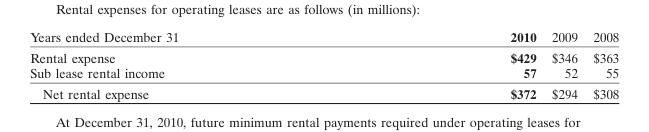table: (29, 28, 618, 101)
table column: (29, 28, 343, 101), (343, 28, 543, 101), (543, 28, 584, 101), (584, 28, 618, 101)
table column header: (29, 28, 618, 46)
table row: (29, 82, 618, 101), (29, 28, 618, 46), (29, 46, 618, 64), (29, 64, 618, 82)
